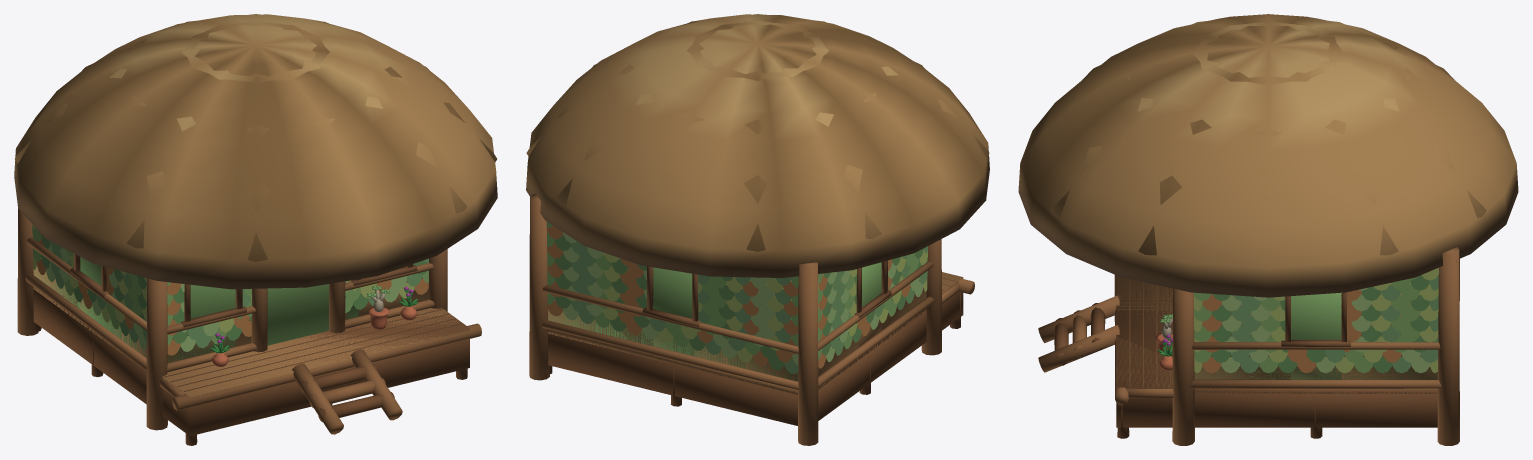
Rendered from hut_green.glb.
3 views of the same model, side by side, from view 1: azimuth 30°, elevation 25°; view 2: azimuth 150°, elevation 25°; view 3: azimuth 270°, elevation 25° (orthographic). The views are drawn at different scales.
Parts seen in each view (by area): view 1: hut_green, hut_green_far; view 2: hut_green, hut_green_far; view 3: hut_green, hut_green_far.
Boxes of the visible parts, x1=… form: hut_green: x1=14, y1=14, x2=497, y2=445; hut_green_far: x1=15, y1=14, x2=496, y2=435; hut_green: x1=526, y1=14, x2=989, y2=445; hut_green_far: x1=526, y1=14, x2=989, y2=425; hut_green: x1=1018, y1=14, x2=1518, y2=445; hut_green_far: x1=1050, y1=14, x2=1486, y2=427.
Bounding box in the file's own units: 8.9 × 6.39 × 8.9.
